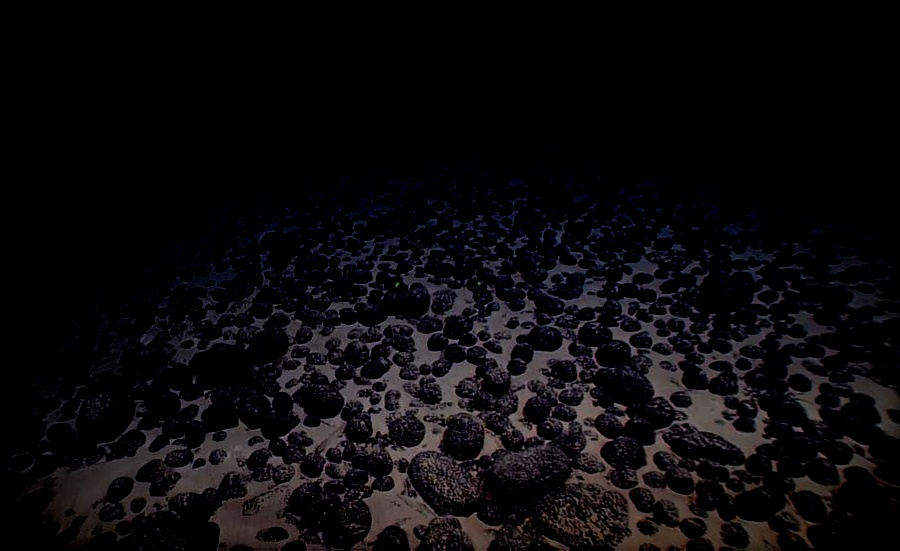halobolite: (477, 442, 570, 505), (419, 447, 488, 516), (643, 338, 718, 391), (770, 384, 831, 449), (160, 429, 234, 465), (249, 371, 309, 408), (149, 274, 203, 313), (474, 405, 516, 451), (418, 412, 455, 463), (609, 324, 650, 370), (116, 487, 169, 522), (254, 435, 298, 474), (558, 384, 599, 420), (606, 403, 641, 445), (202, 461, 239, 498), (468, 283, 502, 323), (271, 339, 313, 371), (282, 318, 326, 348), (338, 323, 373, 355), (506, 353, 542, 384), (702, 444, 739, 473), (514, 297, 548, 328), (191, 366, 224, 395), (529, 413, 558, 446), (663, 402, 695, 431), (85, 370, 117, 399), (388, 364, 415, 397), (338, 293, 371, 320), (347, 396, 377, 425), (83, 433, 114, 461), (127, 452, 159, 479), (425, 311, 457, 338), (160, 373, 192, 399), (307, 218, 341, 242), (111, 274, 143, 296), (166, 335, 196, 358), (569, 292, 595, 317), (352, 262, 378, 287), (135, 340, 163, 363), (425, 262, 453, 285), (541, 362, 570, 383), (448, 356, 472, 381), (384, 274, 414, 294), (258, 314, 283, 337), (277, 235, 306, 254), (263, 280, 286, 302)
